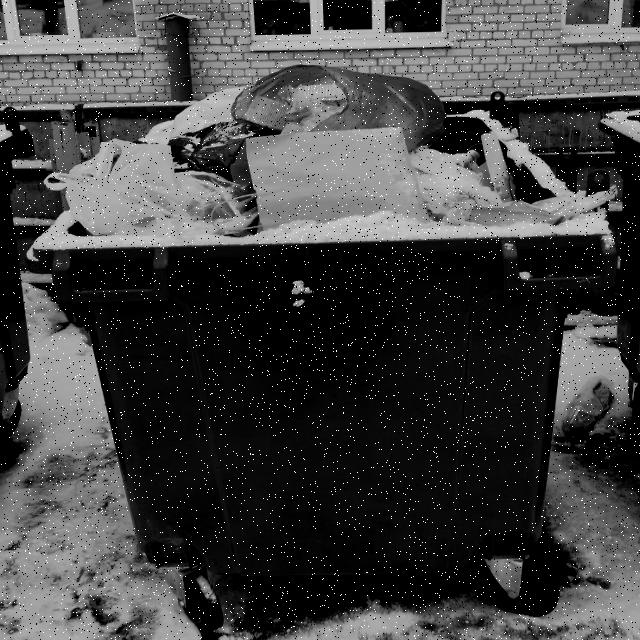Trashcan: (31, 50, 619, 619)
